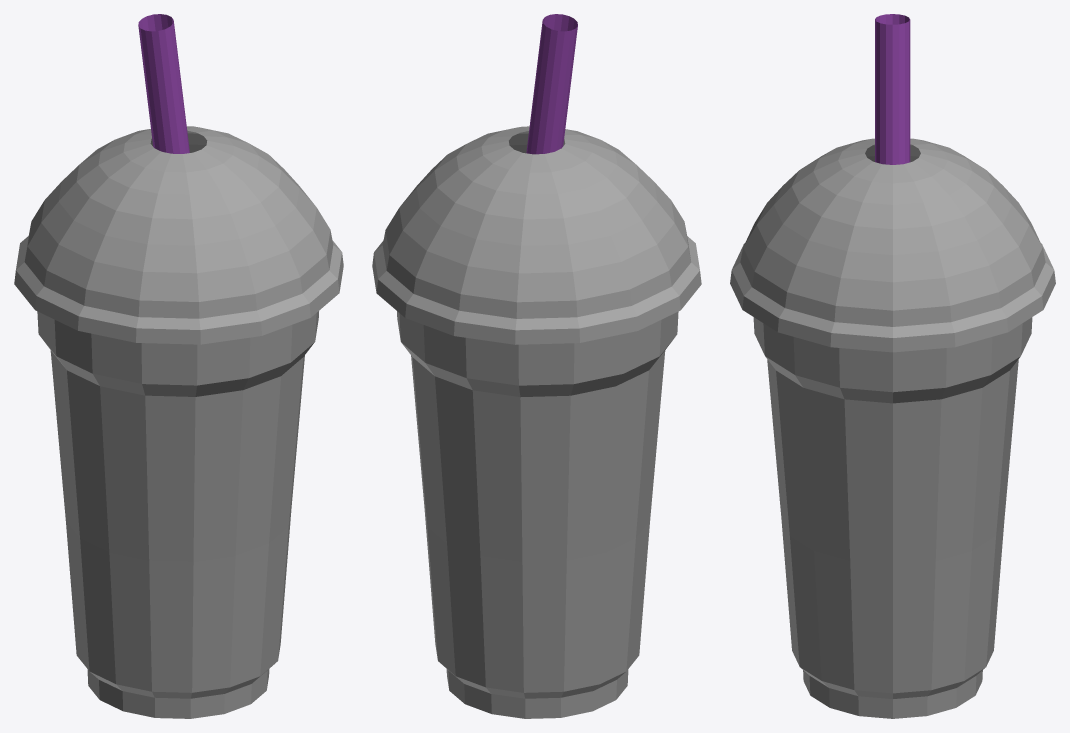
File: LowPolyCup.obj
3 renders of one model, left to right at view 1: azimuth 30°, elevation 25°; view 2: azimuth 150°, elevation 25°; view 3: azimuth 270°, elevation 25°, orthographic.
Visible parts, largest first — view 1: Cup_Cylinder.003; view 2: Cup_Cylinder.003; view 3: Cup_Cylinder.003.
Boxes of the visible parts, x1,y1,x2,y2 form: Cup_Cylinder.003: [14, 14, 343, 718]; Cup_Cylinder.003: [372, 14, 701, 718]; Cup_Cylinder.003: [730, 14, 1055, 718].
Bounding box in the file's own units: 0.3809 × 0.8418 × 0.3809.
2 materials, 1 textured.
